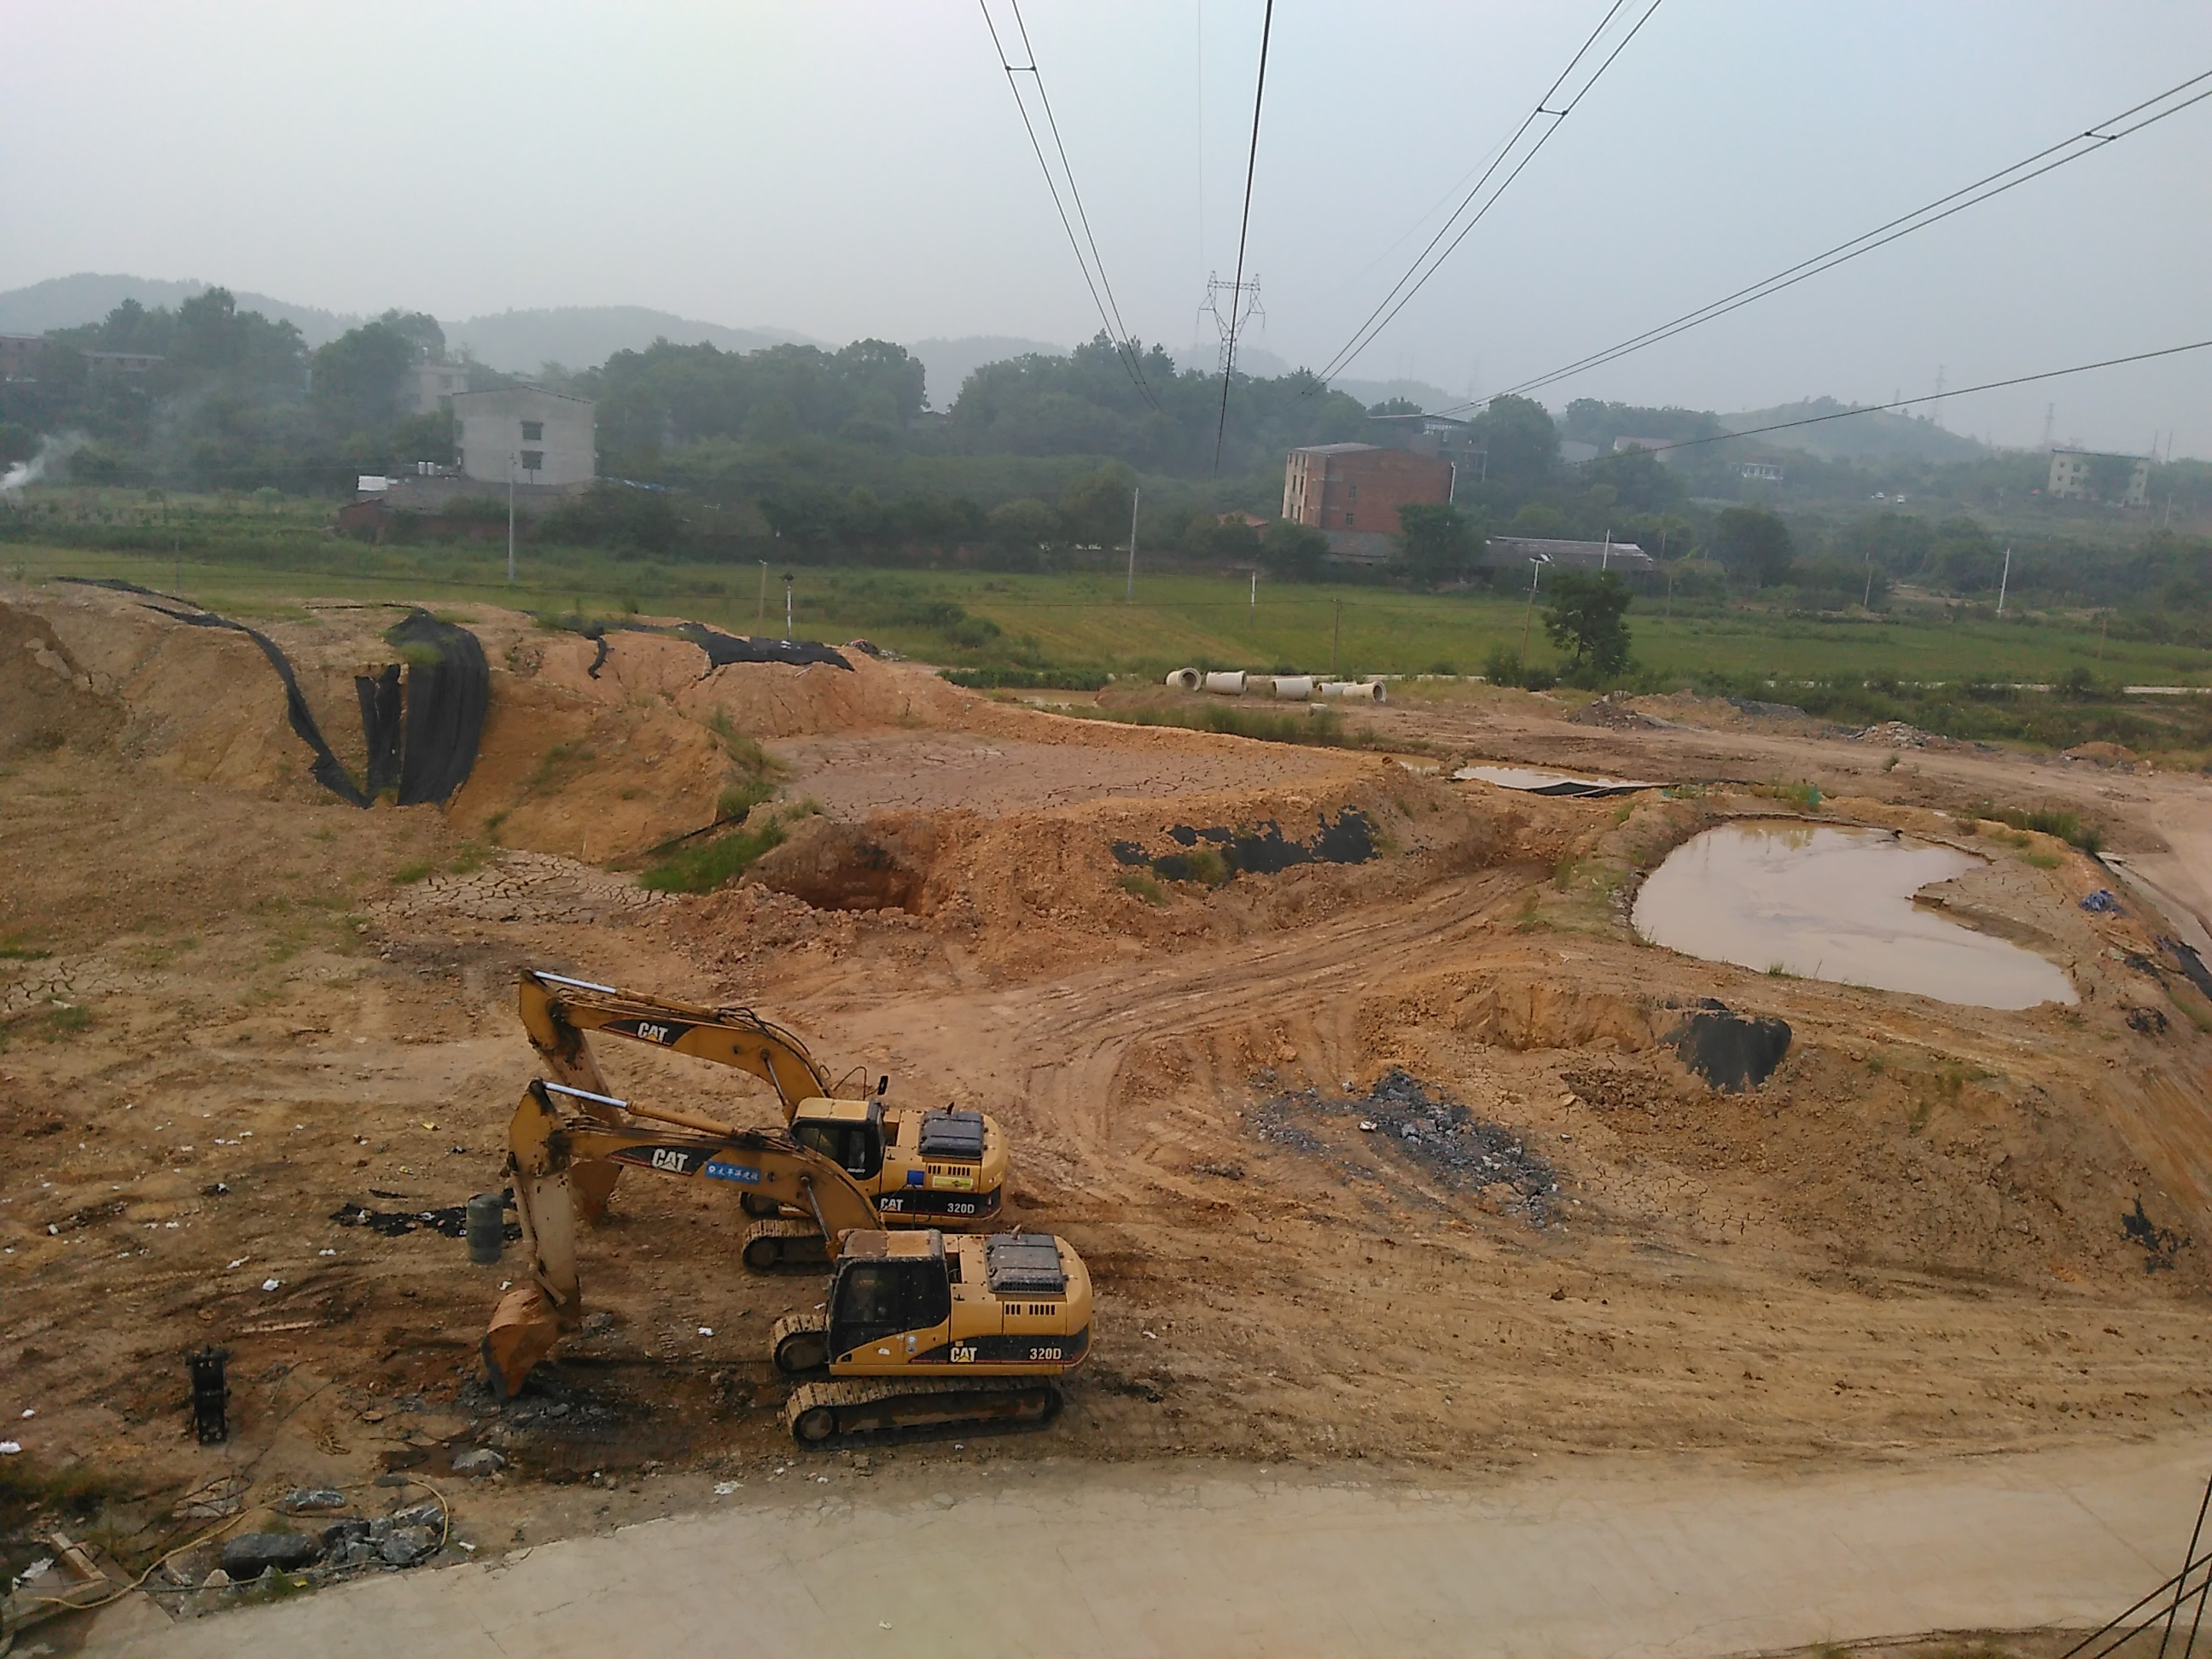wajueji: (453, 1065, 1108, 1485), (486, 941, 1024, 1284)
